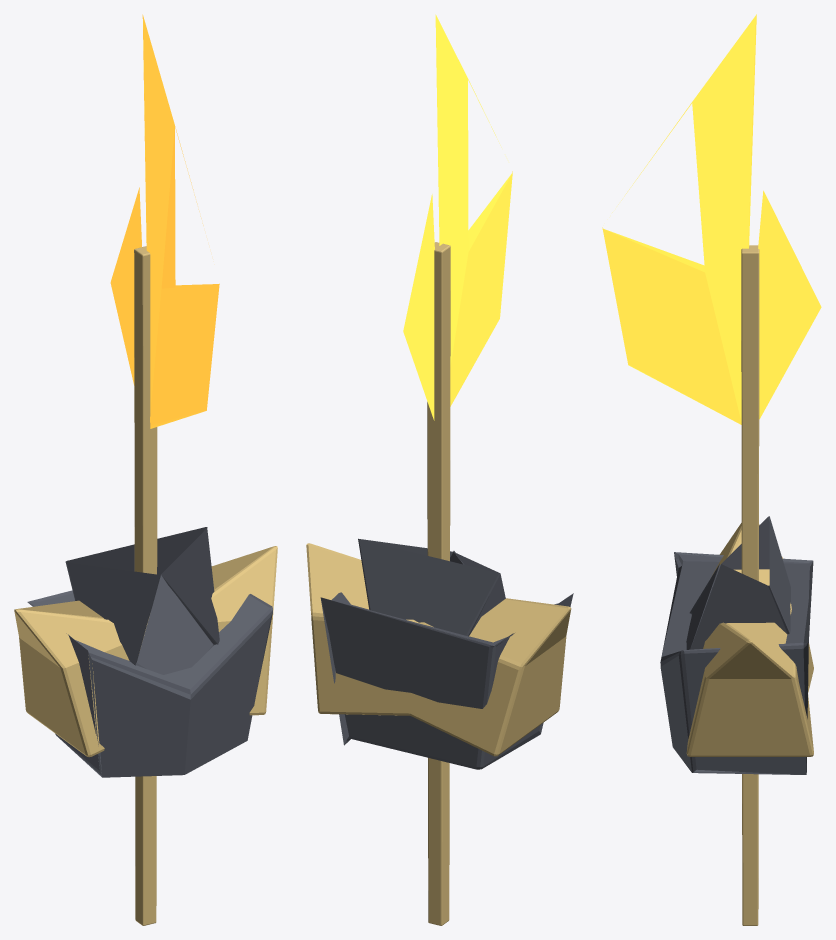
File: veynar-boss-armor-kit.glb
3 renders of one model, left to right at view 1: azimuth 30°, elevation 25°; view 2: azimuth 150°, elevation 25°; view 3: azimuth 270°, elevation 25°, orthographic.
Visible parts, largest first — view 1: BossCuirass, BossHalberdBlade, BossGreathelm, BossPauldronL, BossHalberdShaft, BossPauldronR; view 2: BossHalberdBlade, BossCuirass, BossPauldronL, BossHalberdShaft, BossGreathelm, BossPauldronR; view 3: BossHalberdBlade, BossPauldronR, BossCuirass, BossHalberdShaft, BossGreathelm, BossPauldronL.
Part boxes in pixels (x1,y1,x2,y2): BossCuirass: [27, 590, 272, 777]; BossHalberdBlade: [110, 14, 219, 428]; BossGreathelm: [65, 527, 219, 674]; BossPauldronL: [14, 600, 149, 757]; BossHalberdShaft: [134, 246, 157, 925]; BossPauldronR: [211, 546, 277, 715]; BossHalberdBlade: [403, 14, 512, 420]; BossCuirass: [320, 592, 573, 769]; BossPauldronL: [410, 598, 571, 756]; BossHalberdShaft: [427, 242, 450, 925]; BossGreathelm: [358, 538, 505, 636]; BossPauldronR: [306, 543, 418, 715]; BossHalberdBlade: [602, 14, 821, 424]; BossPauldronR: [686, 609, 813, 756]; BossCuirass: [660, 552, 813, 774]; BossHalberdShaft: [741, 245, 759, 925]; BossGreathelm: [686, 516, 790, 649]; BossPauldronL: [712, 523, 813, 692].
Size of the model in its own units: 0.9411 by 3.1 by 0.6773.
